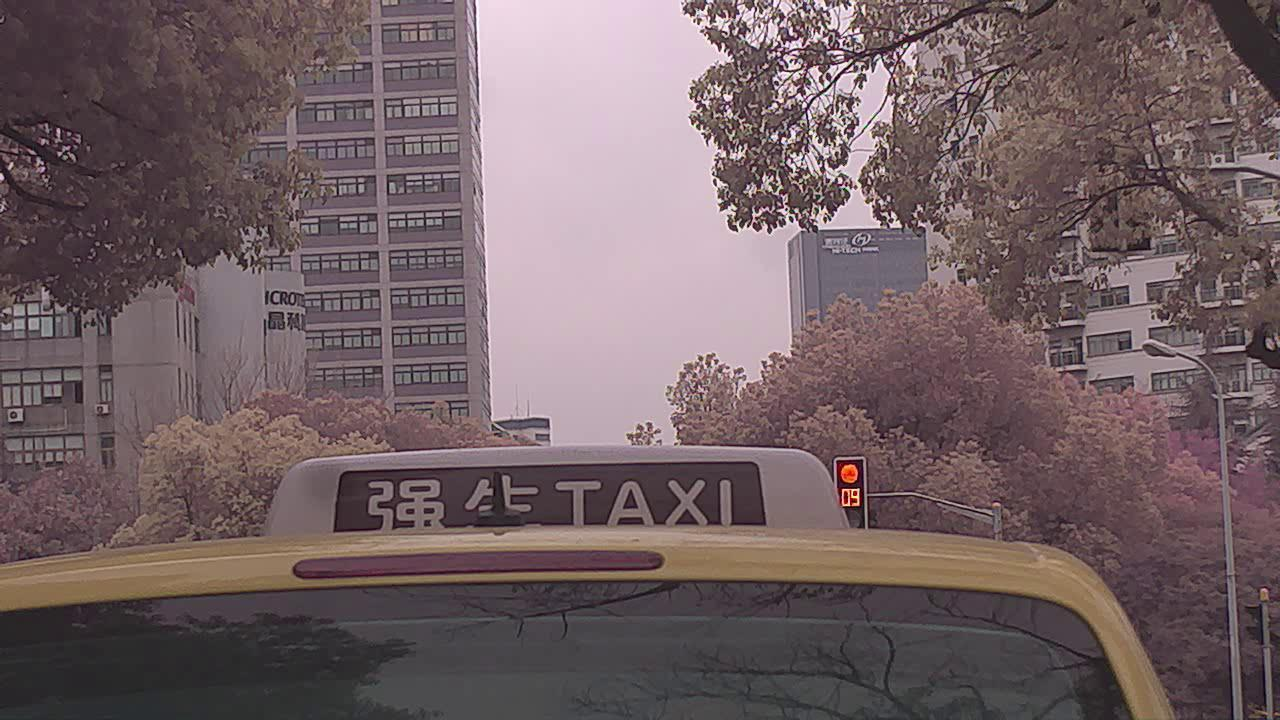traffic_light: (837, 460, 871, 528)
